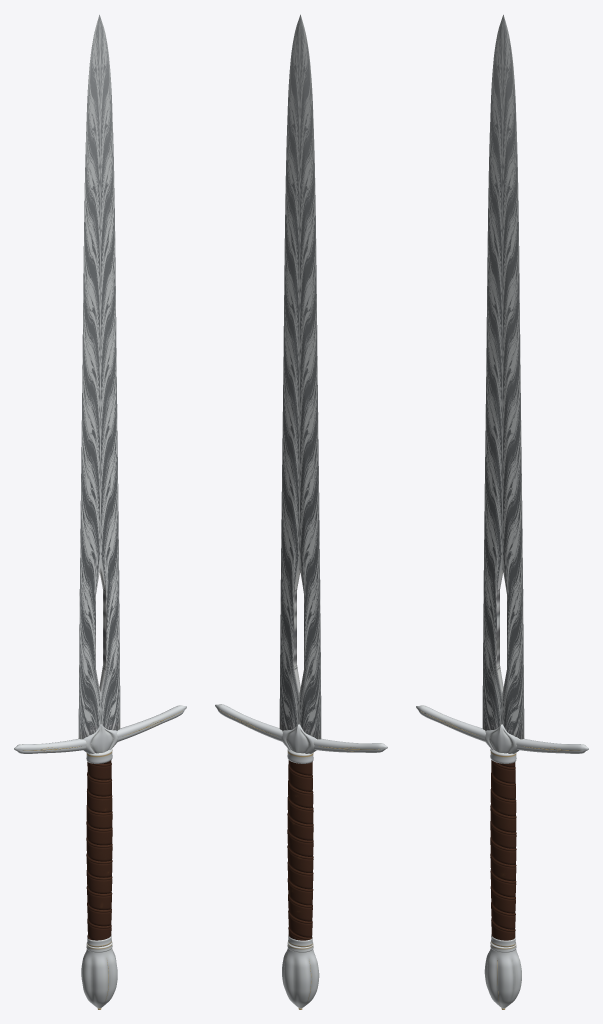
File: branch-sword-frond-v7.glb
3 views of the same model, side by side, from view 1: azimuth 30°, elevation 25°; view 2: azimuth 150°, elevation 25°; view 3: azimuth 330°, elevation 25° (orthographic).
Parts seen in each view (by area): view 1: Blade, Grip, Guard, Pommel; view 2: Blade, Grip, Guard, Pommel; view 3: Blade, Grip, Guard, Pommel.
Part boxes in pixels (x1=…): Blade: x1=78, y1=14, x2=120, y2=739; Grip: x1=86, y1=760, x2=112, y2=947; Guard: x1=14, y1=705, x2=186, y2=763; Pommel: x1=81, y1=941, x2=117, y2=1009; Blade: x1=279, y1=14, x2=321, y2=739; Grip: x1=287, y1=760, x2=313, y2=947; Guard: x1=215, y1=704, x2=387, y2=763; Pommel: x1=282, y1=941, x2=319, y2=1009; Blade: x1=482, y1=14, x2=524, y2=739; Grip: x1=490, y1=760, x2=516, y2=947; Guard: x1=416, y1=705, x2=588, y2=763; Pommel: x1=484, y1=941, x2=521, y2=1009.
Bounding box in the file's own units: 0.23 × 1.27 × 0.0388.
8 materials, 4 textured.
